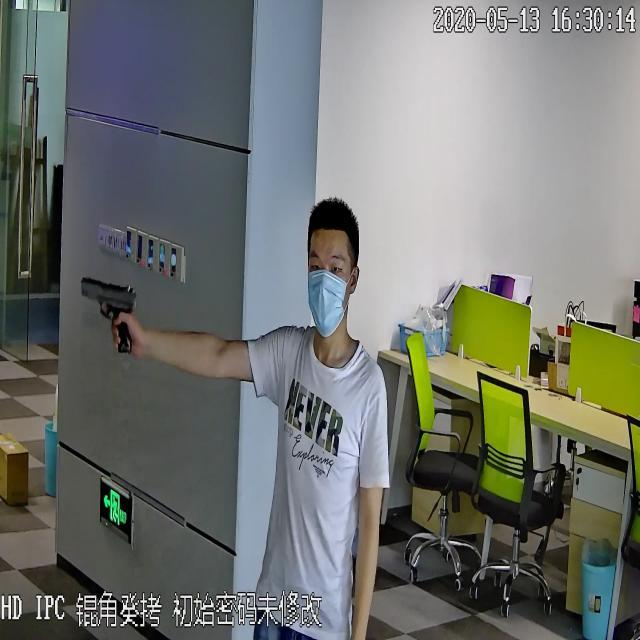gun: (78, 269, 136, 357)
